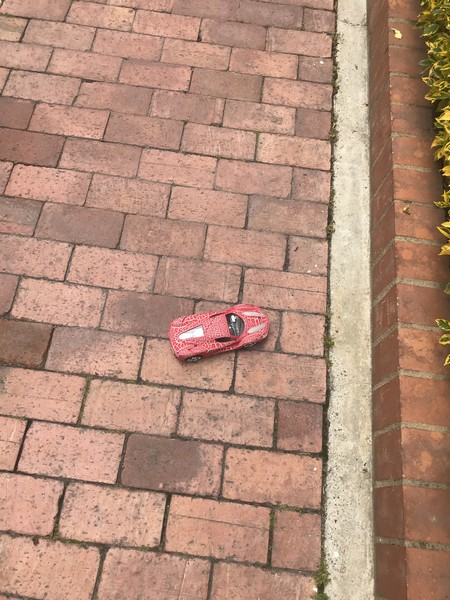RC: (168, 302, 271, 364)
